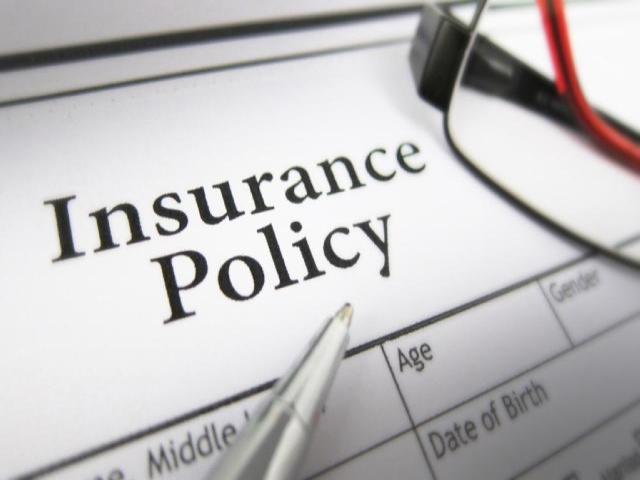PEN: (195, 274, 381, 480)
